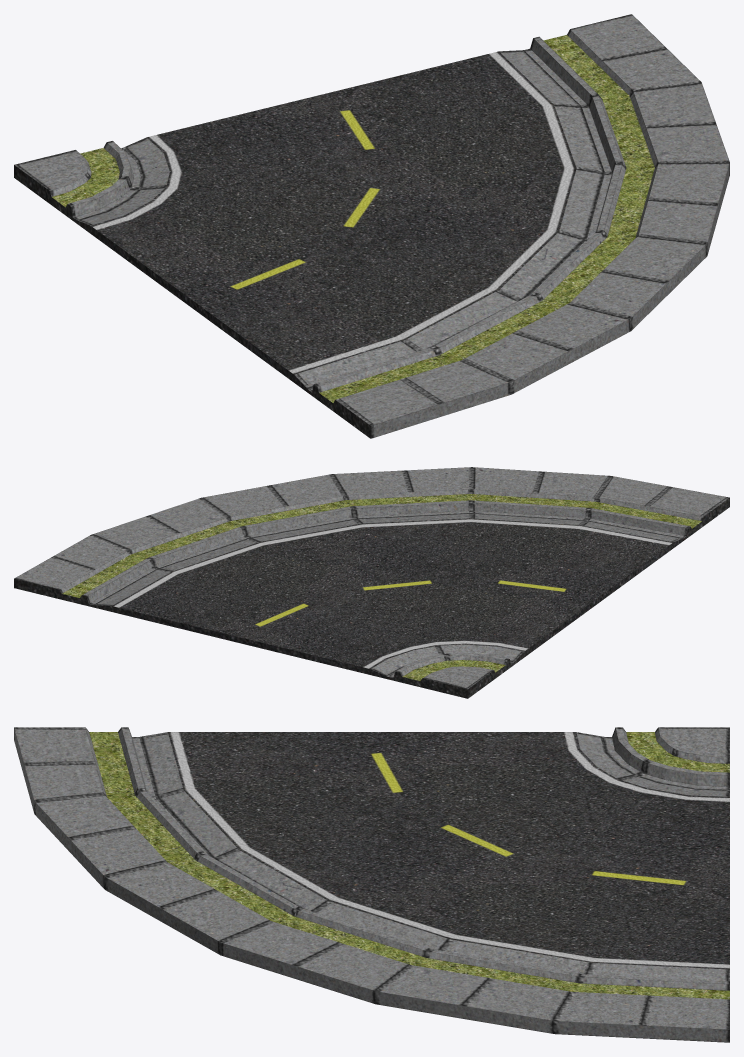
Rendered from Corner.glb.
The picture shows the model from 3 angles, top to bottom: view 1: azimuth 30°, elevation 25°; view 2: azimuth 150°, elevation 25°; view 3: azimuth 270°, elevation 25°; orthographic projection. The views are drawn at different scales.
Visible parts, largest first — view 1: Road-2-Lane-Corner; view 2: Road-2-Lane-Corner; view 3: Road-2-Lane-Corner.
Boxes of the visible parts, x1,y1,x2,y2 form: Road-2-Lane-Corner: [14, 14, 729, 438]; Road-2-Lane-Corner: [14, 467, 729, 698]; Road-2-Lane-Corner: [14, 727, 729, 1042].
Size of the model in its own units: 18 by 0.36 by 18.
1 material, 1 textured.
